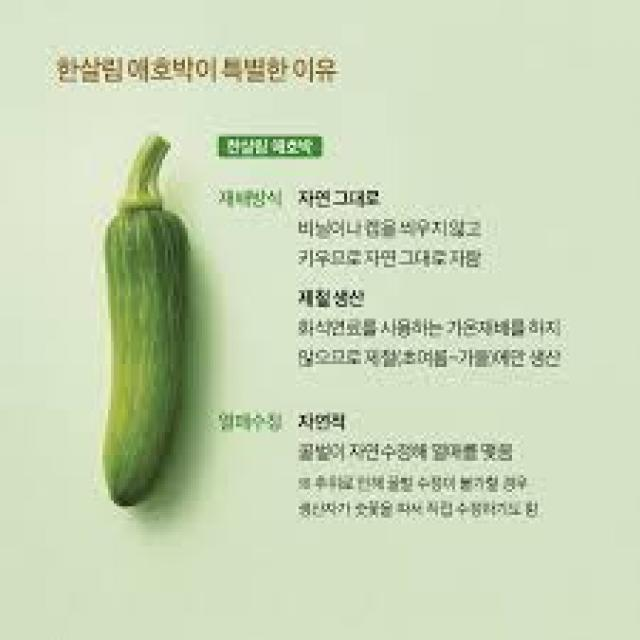zucchini: (80, 131, 196, 529)
